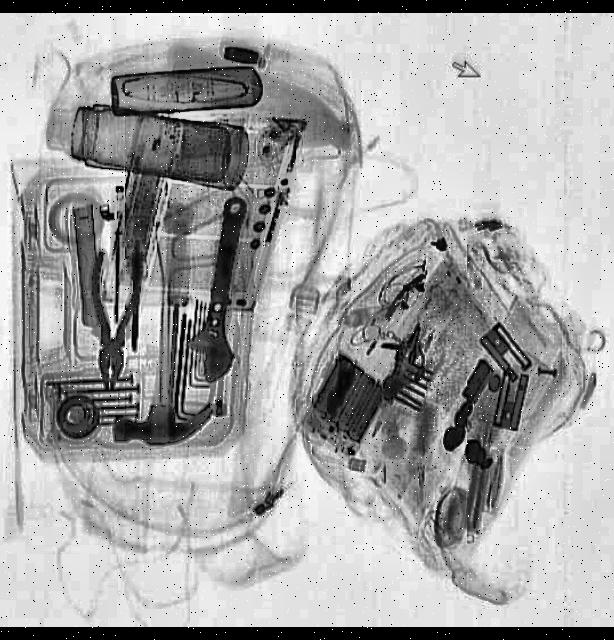Pliers: (86, 242, 144, 394)
Wrench: (182, 194, 262, 388)
